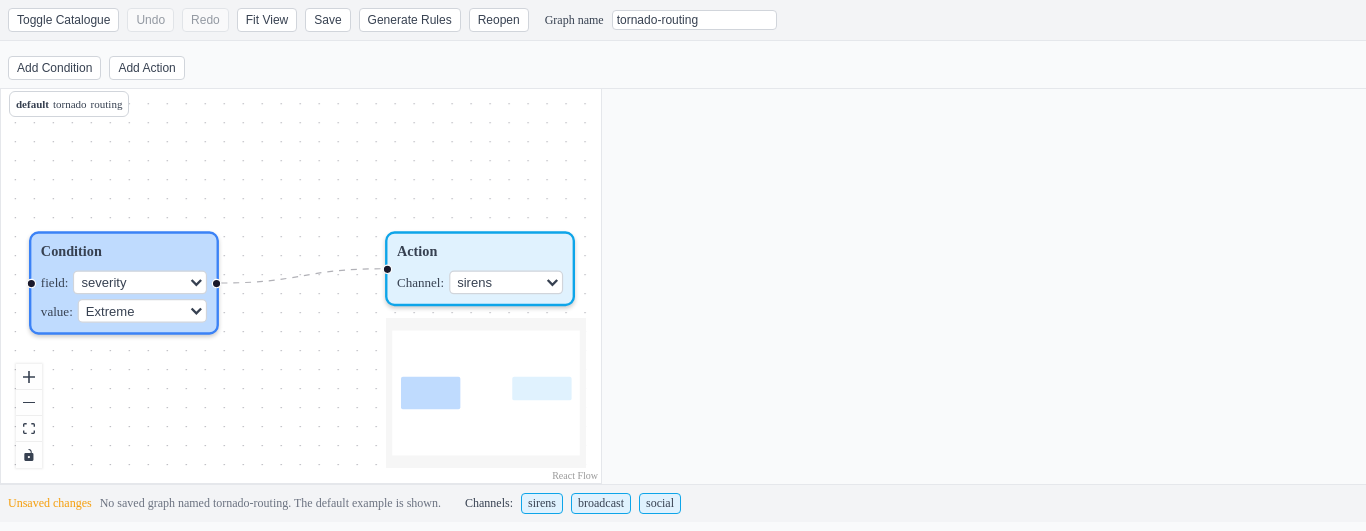
Scenario: AlertRuleDesigner behaviour › disables Generate Rules once an unconnected action node is added
Expected: the button "Generate Rules" is enabled, [359,8,461,32]
// an action node with no incoming edge makes the graph invalid
Click the button "Add Action".
click(147, 68)  # box [109,56,185,80]
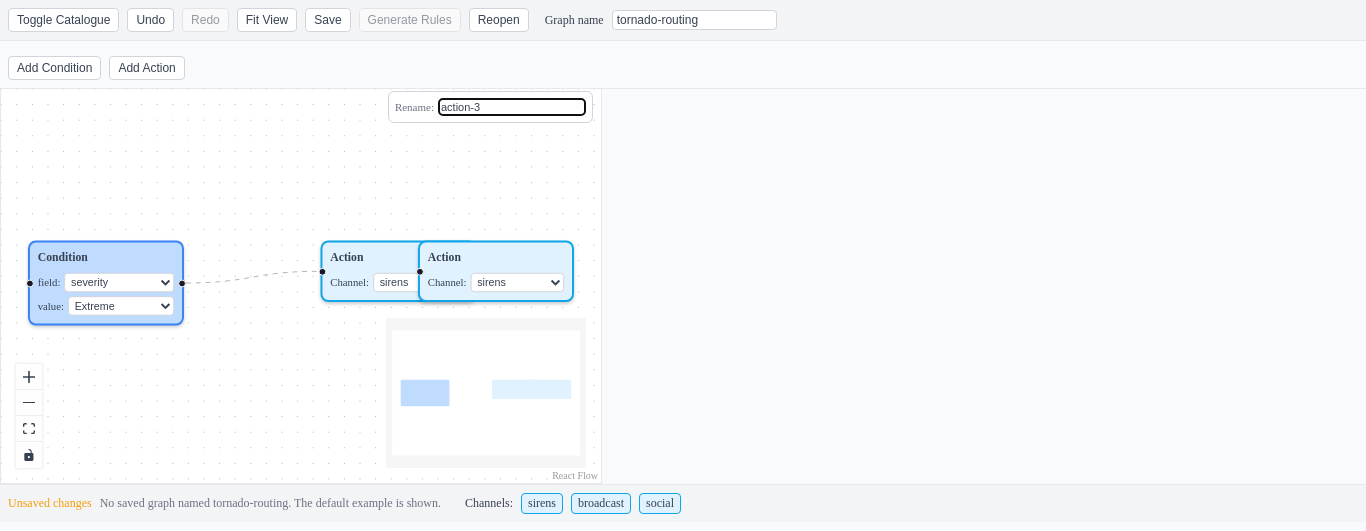
Result: the button "Generate Rules" is disabled at [359,8,461,32]
